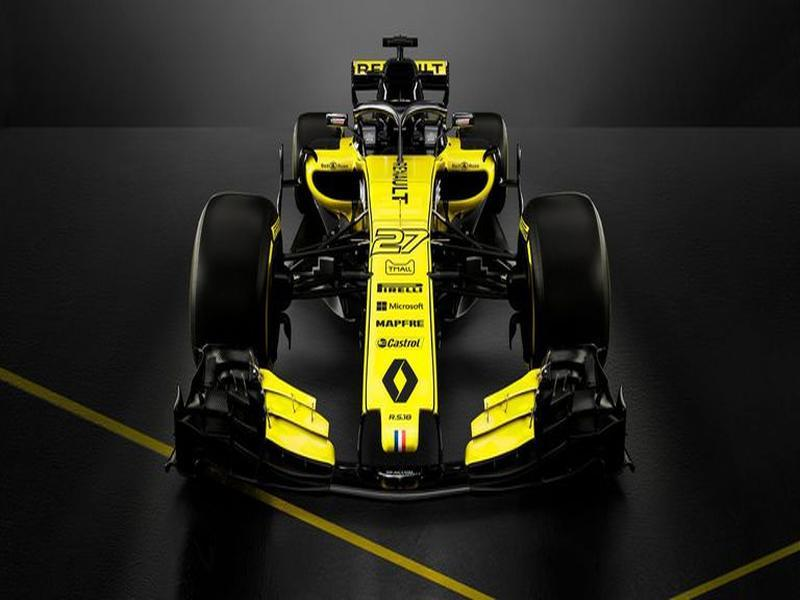f1: (167, 54, 643, 510)
